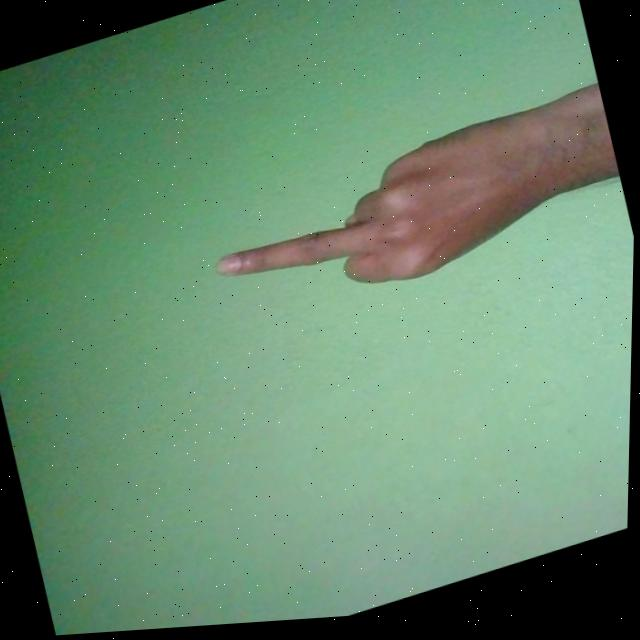Middle Finger: (195, 92, 623, 342)
